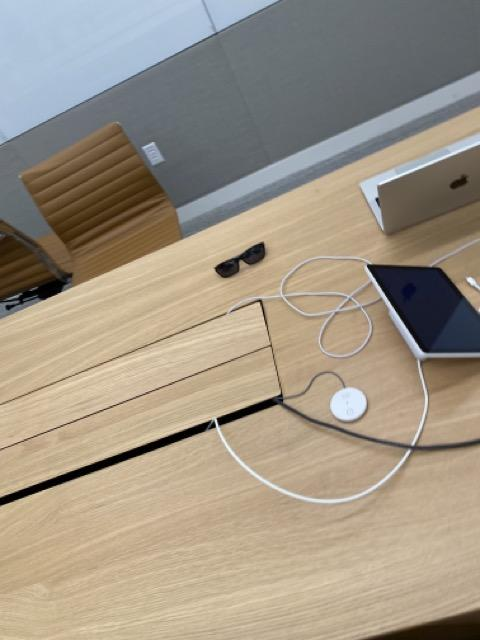Sunglasses: (213, 239, 268, 280)
